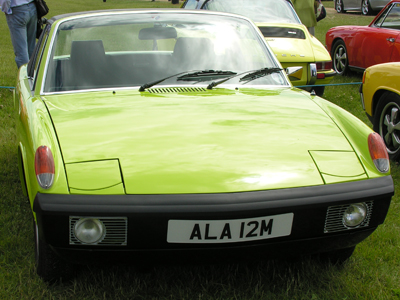licencePlate: (168, 213, 298, 250)
